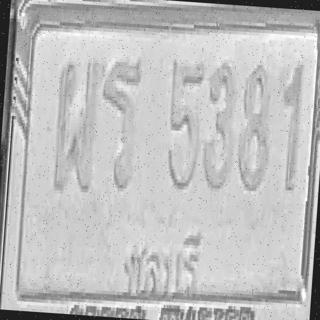A28: (51, 54, 101, 192)
A35: (95, 56, 143, 190)
N01: (276, 60, 304, 190)
N03: (200, 56, 239, 191)
N05: (163, 56, 205, 190)
N08: (236, 59, 274, 190)
P13: (121, 224, 208, 304)
